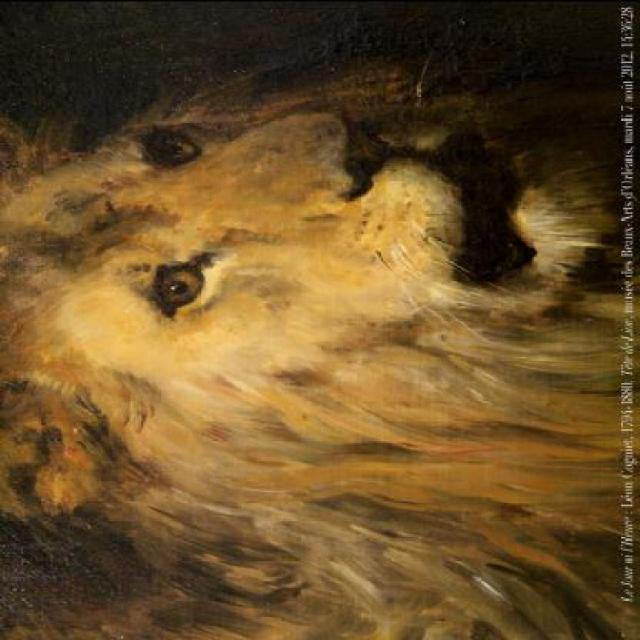Lion: (32, 57, 638, 620)
